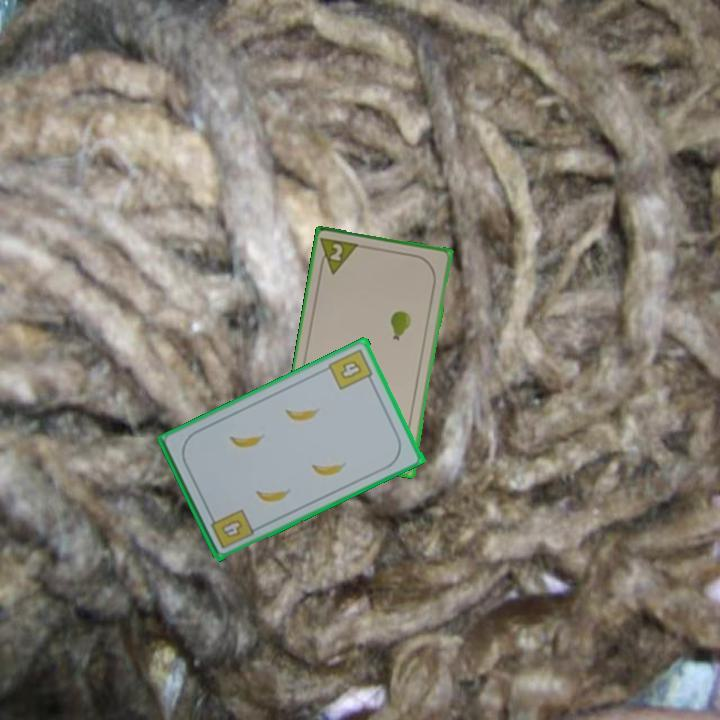2p: (315, 235, 363, 278)
4b: (325, 345, 377, 392), (205, 505, 257, 551)
